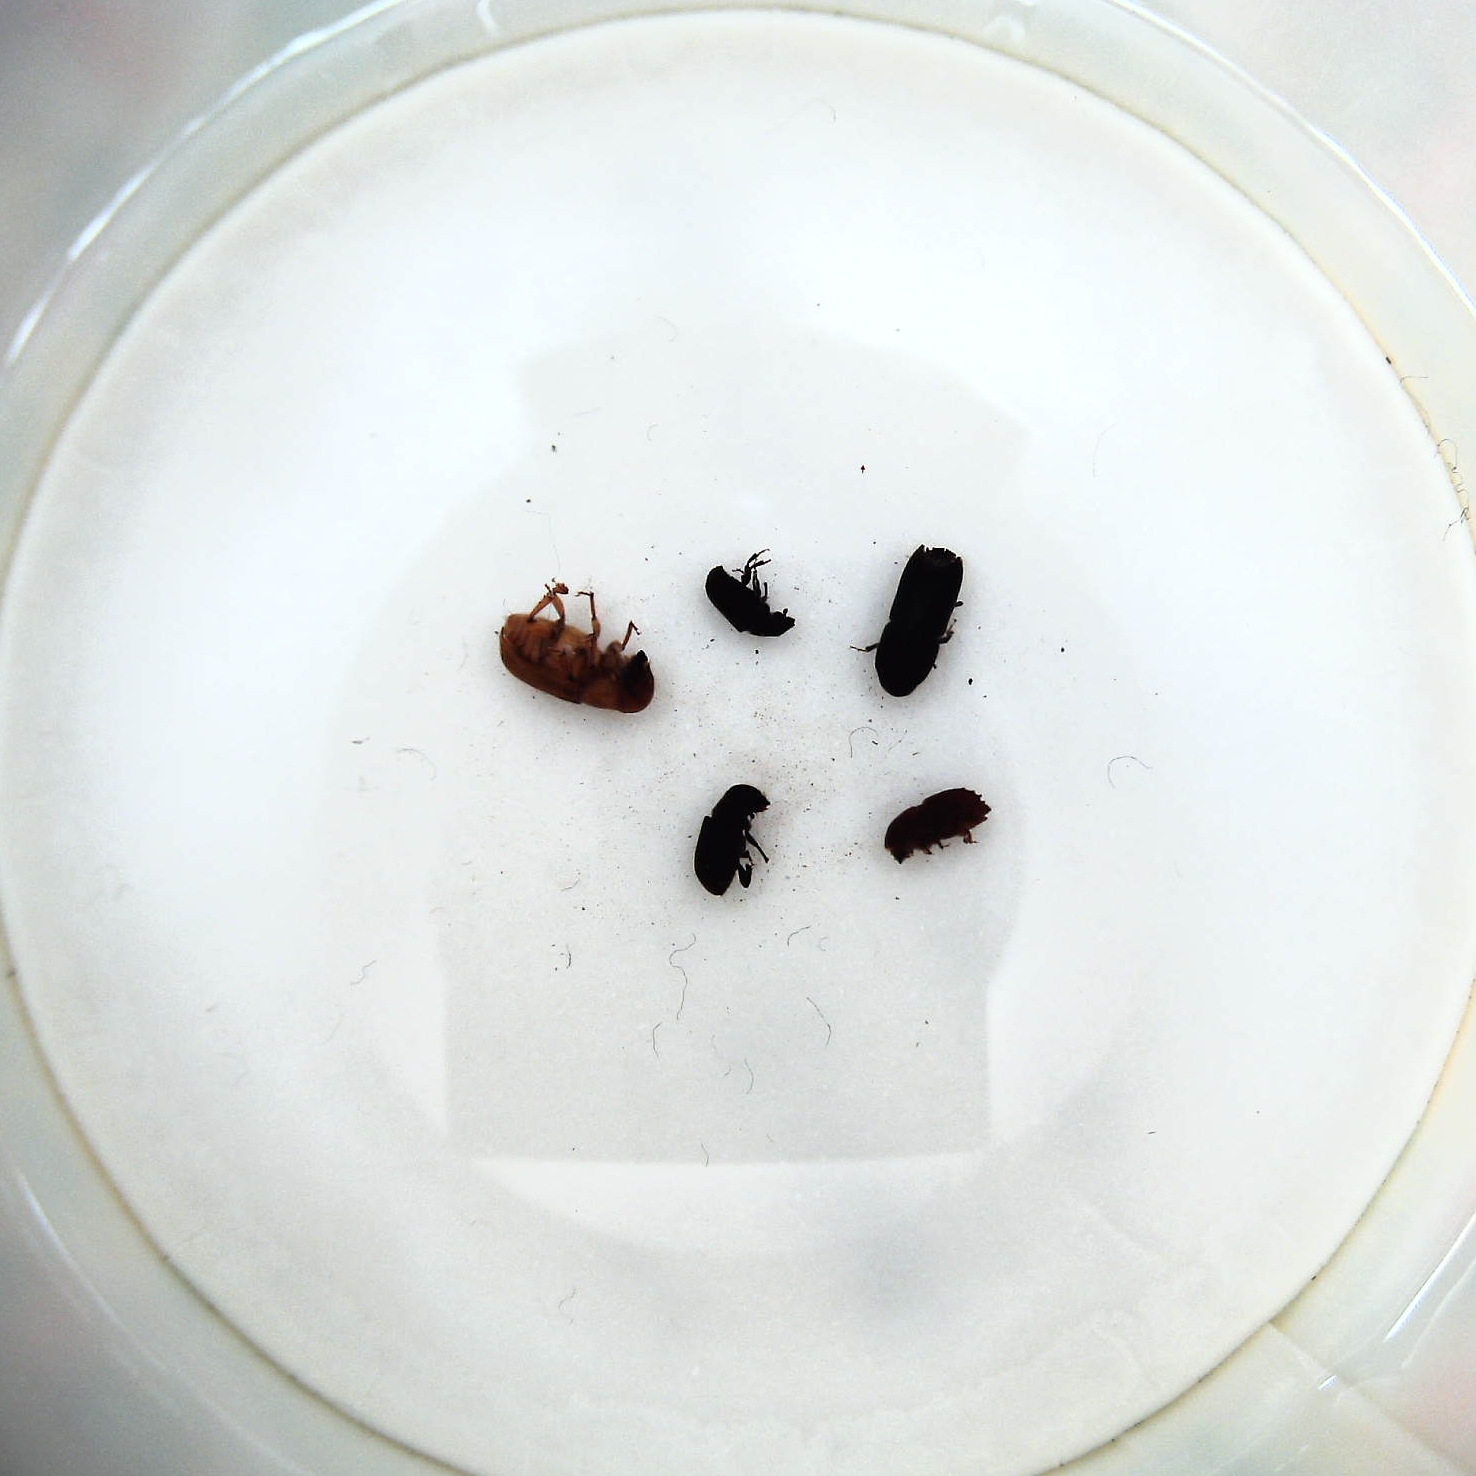Boerner: (869, 545, 969, 704)
Leconte: (496, 577, 657, 723)
armandi: (691, 783, 772, 902)
coleoptera: (699, 547, 796, 643)
linnaeus: (884, 787, 996, 866)
